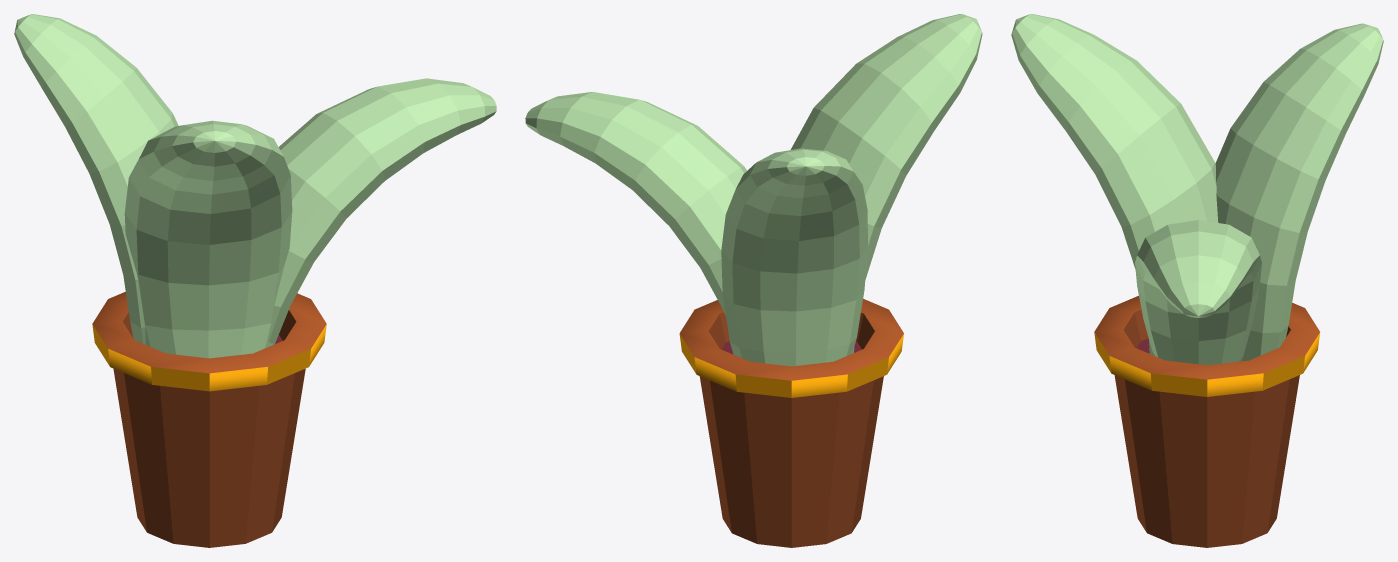
Rendered from potted_plant06.fbx.
The picture shows the model from 3 angles, left to right: view 1: azimuth 30°, elevation 25°; view 2: azimuth 150°, elevation 25°; view 3: azimuth 270°, elevation 25°; orthographic projection. The views are drawn at different scales.
Visible parts, largest first — view 1: potted_plant06; view 2: potted_plant06; view 3: potted_plant06.
Boxes of the visible parts, bbox=[...] form: potted_plant06: bbox=[14, 14, 496, 547]; potted_plant06: bbox=[525, 14, 982, 547]; potted_plant06: bbox=[1011, 14, 1383, 547].
Size of the model in its own units: 1.37 by 1.57 by 1.15.
